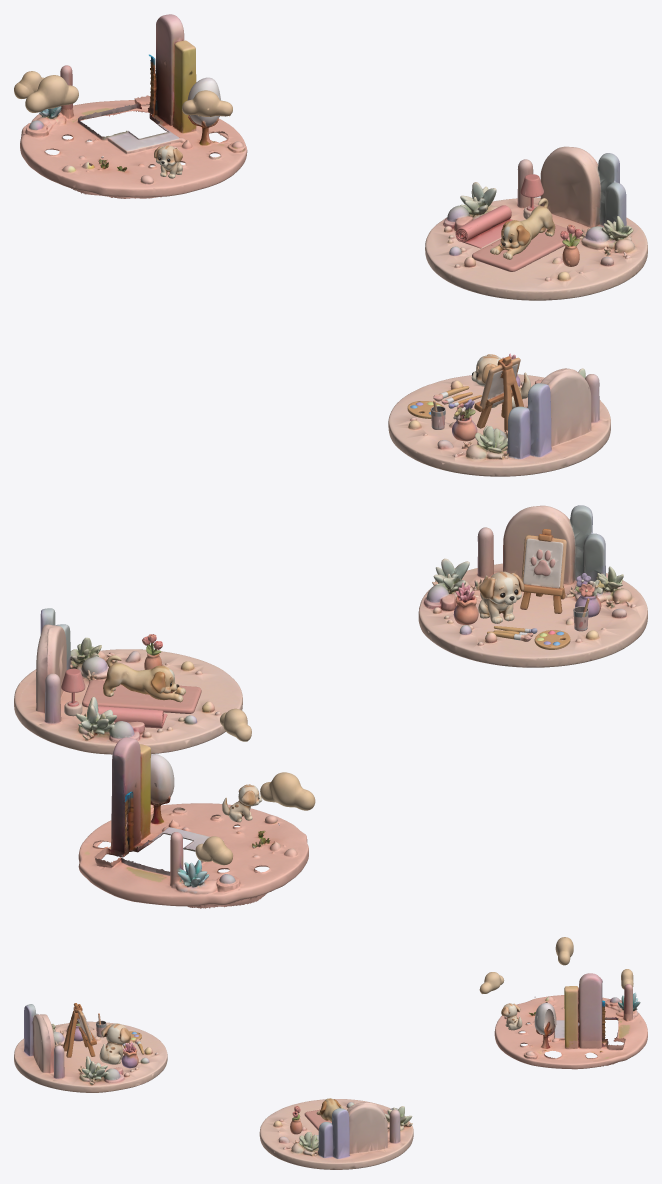
Rendered from islands.glb.
3 renders of one model, top to bottom at view 1: azimuth 30°, elevation 25°; view 2: azimuth 150°, elevation 25°; view 3: azimuth 270°, elevation 25°, orthographic. The views are drawn at different scales.
Parts seen in each view (by area): view 1: hero platform, yoga platform, paint platform, paint canvas, yoga puppy, yoga mat, yoga mat folded, cloud 3, cloud 1, paint flower pot 1, paint pup, hero pup (+1 smaller); view 2: hero platform, paint platform, yoga platform, paint canvas, yoga puppy, yoga mat, paint pup, cloud 3, yoga mat folded, hero pup, paint flower pot 1, paint flower pot (+4 smaller); view 3: hero platform, yoga platform, paint platform, paint pup, paint canvas, hero pup, cloud 3, cloud 1.
Part boxes in pixels (<box>): hero platform: <box>20,14,247,198</box>; yoga platform: <box>425,146,647,300</box>; paint platform: <box>388,368,610,476</box>; paint canvas: <box>474,356,523,431</box>; yoga puppy: <box>490,198,555,259</box>; yoga mat: <box>472,224,577,271</box>; yoga mat folded: <box>455,205,512,248</box>; cloud 3: <box>25,75,78,112</box>; cloud 1: <box>182,90,232,116</box>; paint flower pot 1: <box>452,399,477,441</box>; paint pup: <box>471,354,530,408</box>; hero pup: <box>154,145,182,178</box>; hero platform: <box>78,737,308,908</box>; paint platform: <box>418,505,647,667</box>; yoga platform: <box>14,608,242,754</box>; paint canvas: <box>520,529,566,613</box>; yoga puppy: <box>103,655,185,702</box>; yoga mat: <box>82,680,201,713</box>; paint pup: <box>478,571,524,623</box>; cloud 3: <box>260,772,315,810</box>; yoga mat folded: <box>98,706,167,728</box>; hero pup: <box>222,784,262,822</box>; paint flower pot 1: <box>575,573,604,617</box>; paint flower pot: <box>453,582,478,624</box>; hero platform: <box>494,973,647,1069</box>; yoga platform: <box>259,1099,413,1169</box>; paint platform: <box>14,1004,167,1092</box>; paint pup: <box>99,1023,130,1064</box>; paint canvas: <box>63,1003,96,1057</box>; hero pup: <box>501,1003,522,1030</box>; cloud 3: <box>555,937,573,965</box>; cloud 1: <box>479,972,504,993</box>.
Size of the model in its own units: 4.71 by 1.51 by 8.49.
Materials: 12 (12 with a texture image).
